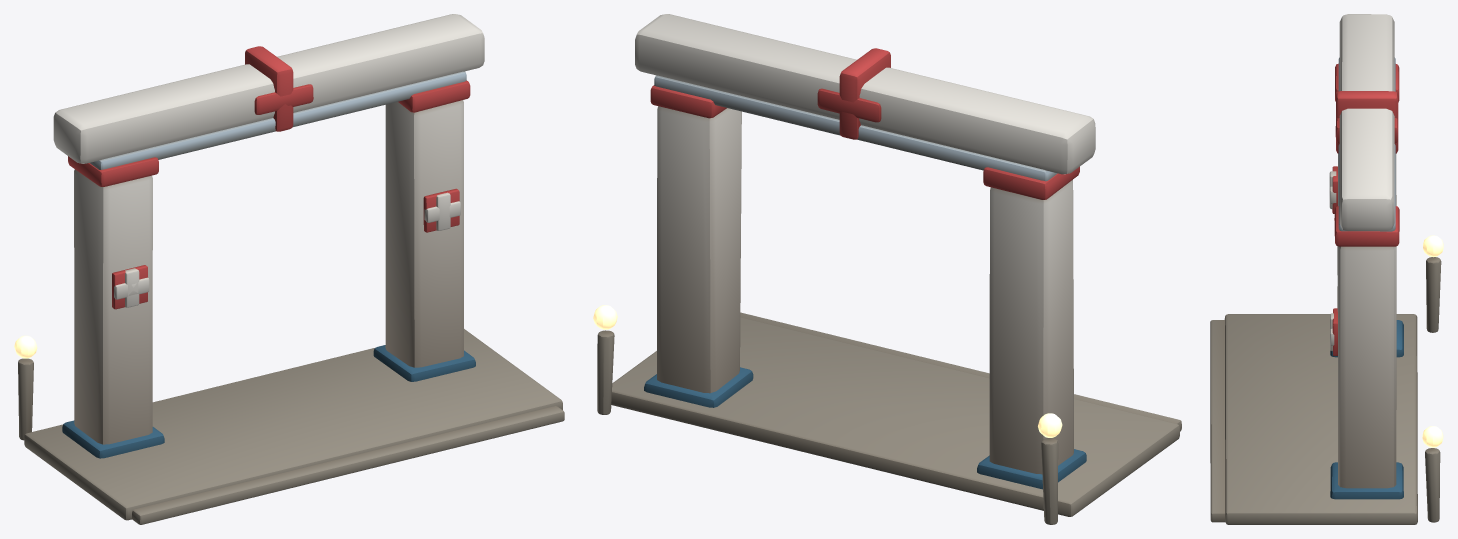
The picture shows the model from 3 angles, left to right: view 1: azimuth 30°, elevation 25°; view 2: azimuth 150°, elevation 25°; view 3: azimuth 270°, elevation 25°; orthographic projection. The views are drawn at different scales.
Parts seen in each view (by area): view 1: gate_f90634dc; view 2: gate_f90634dc; view 3: gate_f90634dc.
Part boxes in pixels (x1,y1,x2,y2): gate_f90634dc: [14, 14, 564, 524]; gate_f90634dc: [593, 14, 1181, 524]; gate_f90634dc: [1210, 14, 1443, 524].
Bounding box in the file's own units: 5.18 × 4.02 × 2.55.
